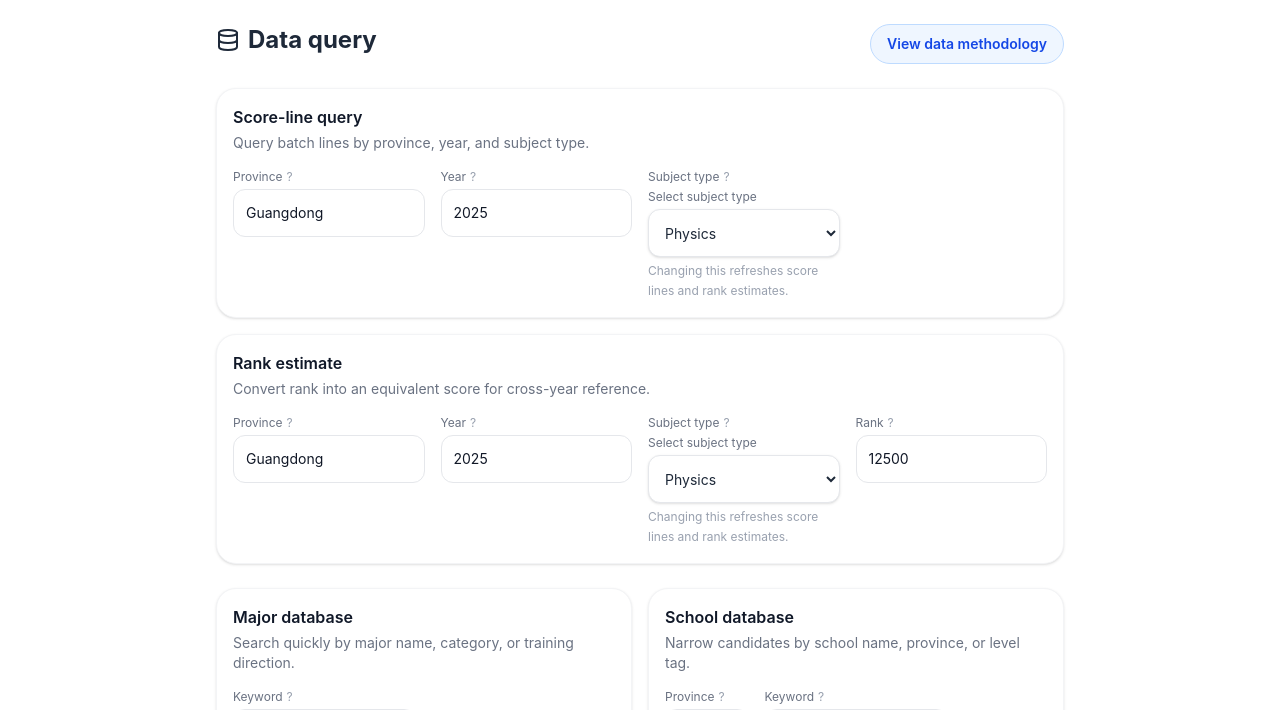
Test: DataQueryPage › renders methodology and score type controls with English labels
expect the heading "Data query" is shown: met, box [216, 24, 377, 56]
expect the 1st dropdown labelled "Select subject type" shows "Physics": met, box [648, 209, 840, 257]
Click the button "View data methodology": (967, 44) [870, 24, 1064, 64]
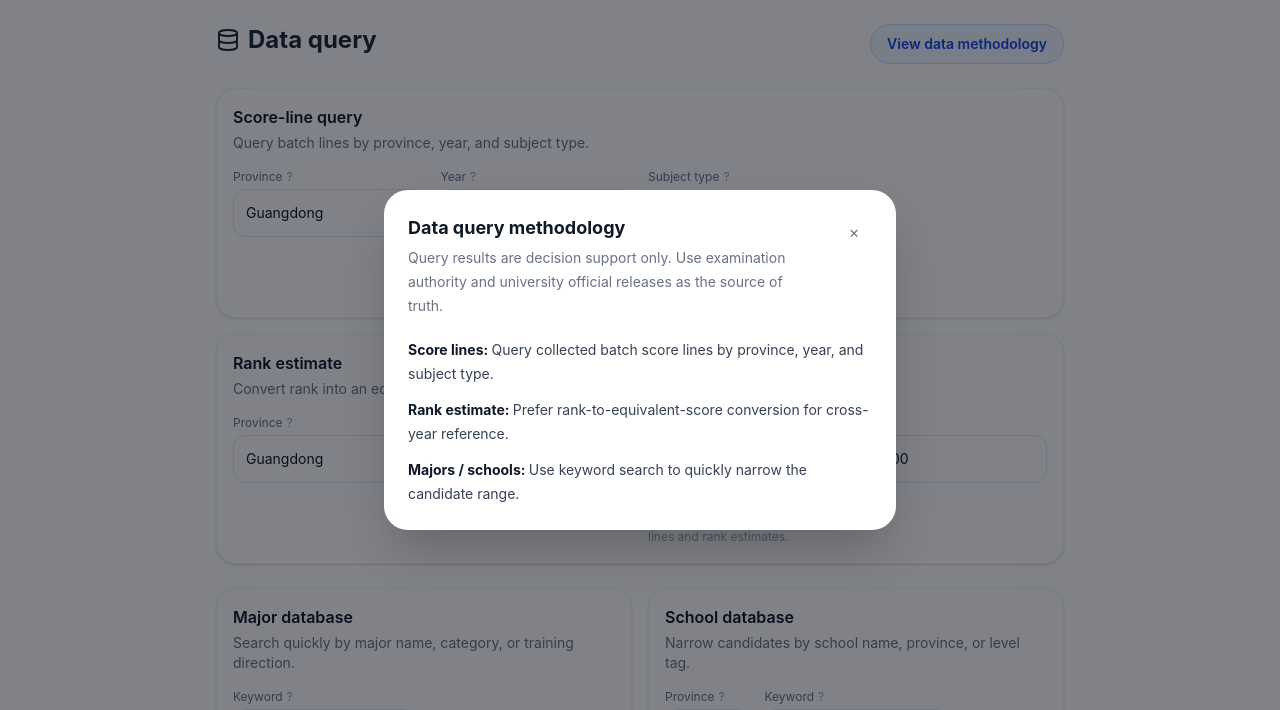
expect the dialog "Data query methodology" shows "Rank estimate": met, box [408, 401, 513, 418]
